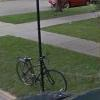bicycles: (14, 54, 68, 96)
